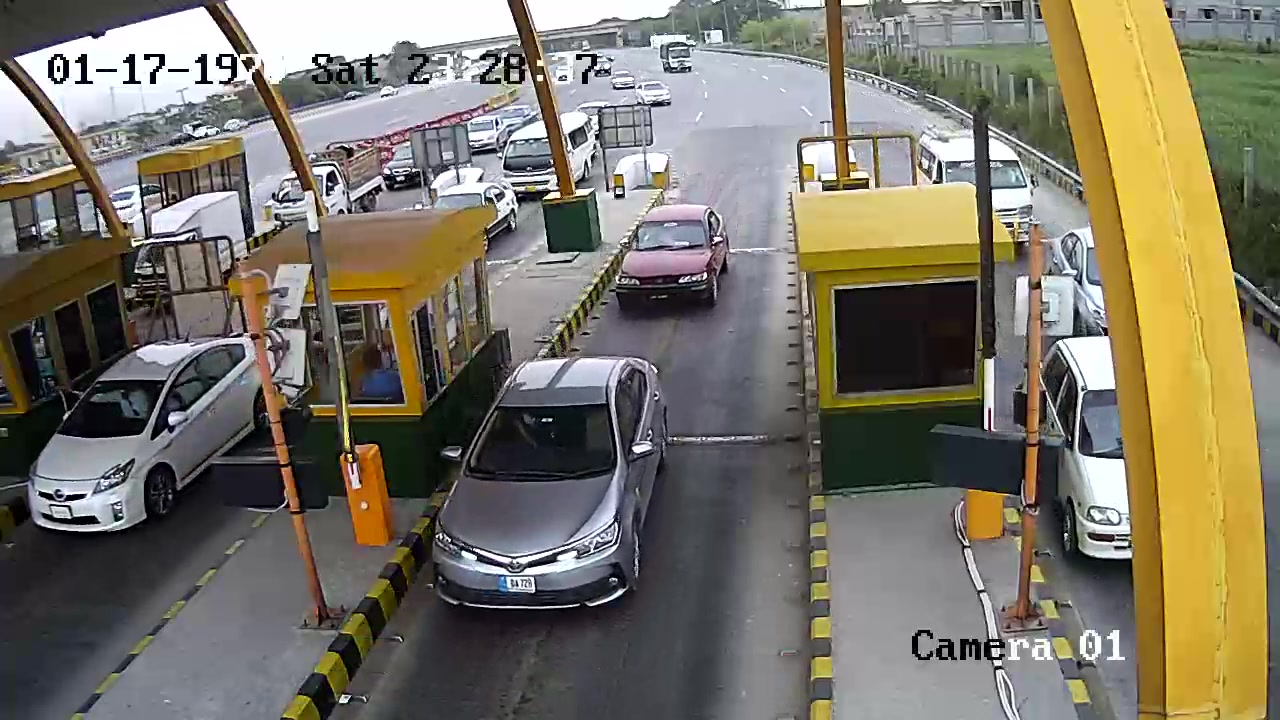F1: (424, 339, 689, 649), (604, 195, 738, 322)
